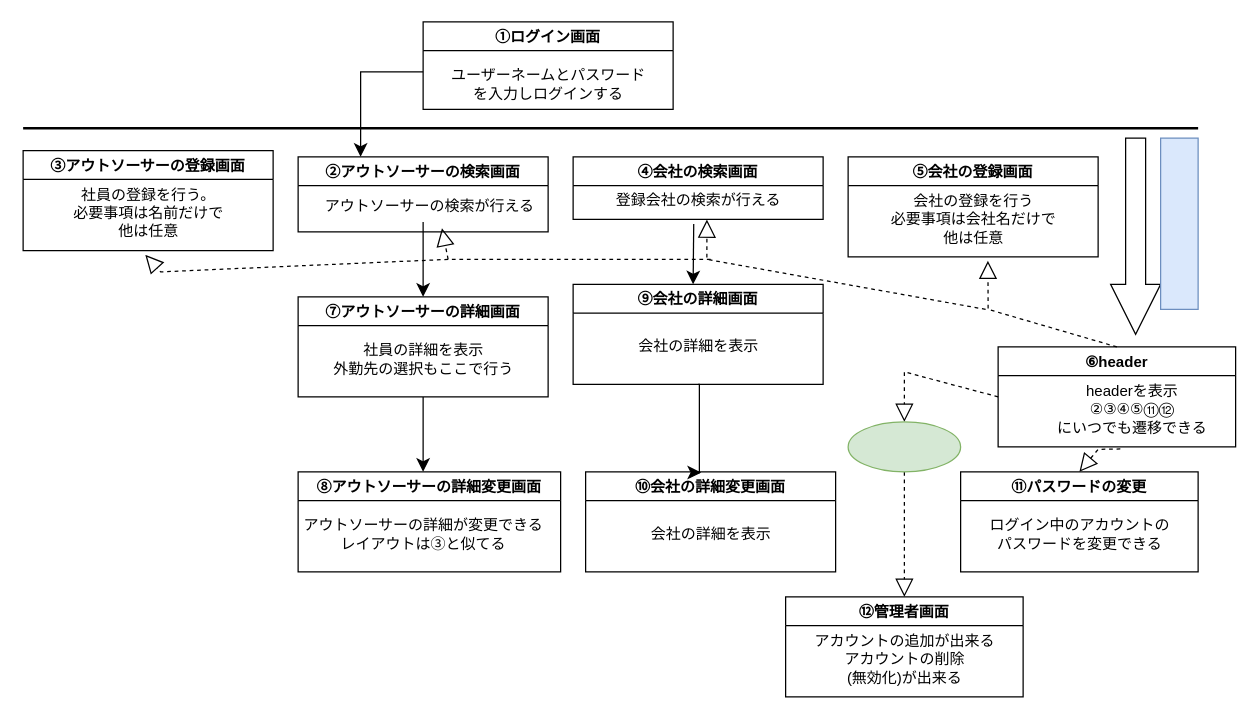
Image size: 1258x719. Some labels were removed from this diagram. Here are the shapes that lost their labels. From the top down, the centre of each, then its label:
(x=1178, y=223): 以下で⑥headerを表示
(x=904, y=446): 管理者のみ
